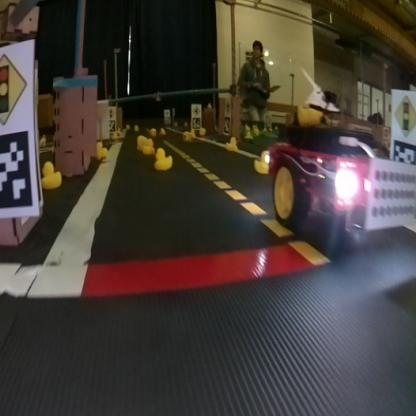duckie: (39, 158, 64, 192), (150, 144, 178, 170), (222, 131, 240, 154)
duckiebot: (267, 121, 415, 252)
